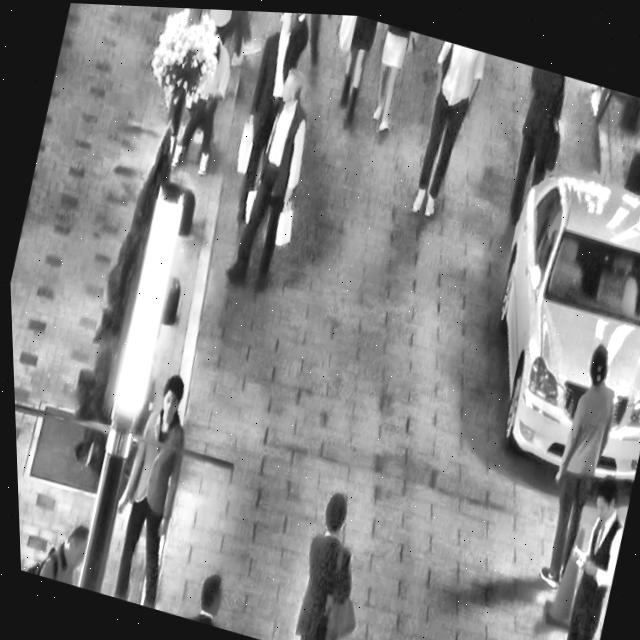light_vehicle: (448, 132, 640, 494)
